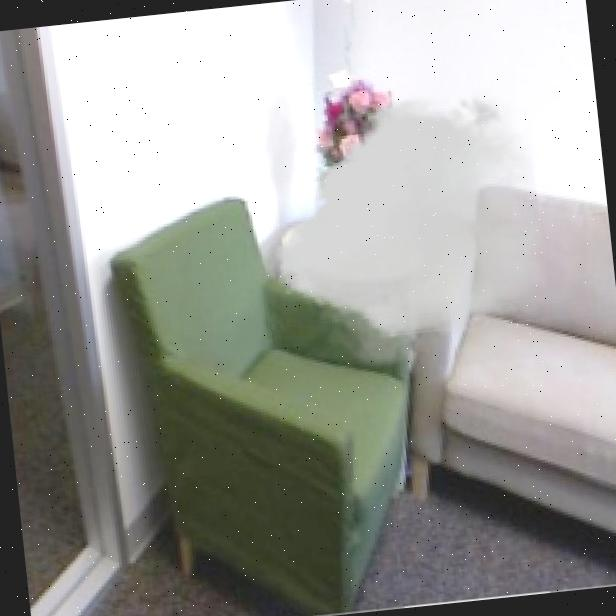smoke: (261, 82, 553, 382)
